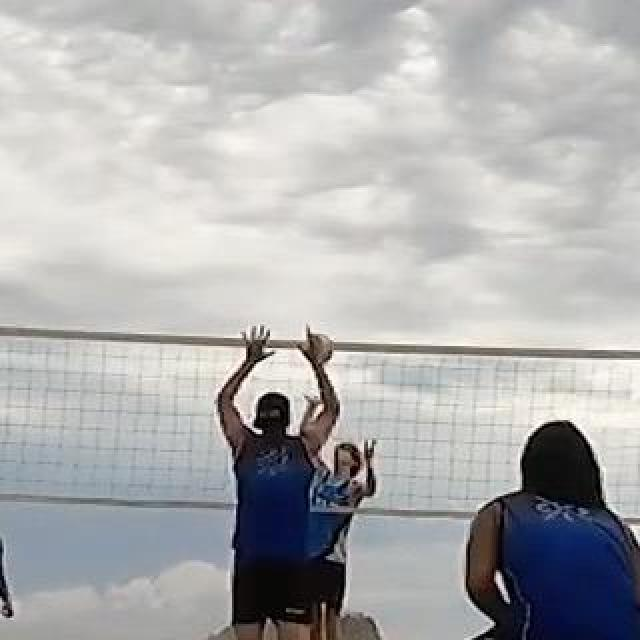volleyball: (302, 331, 332, 365)
